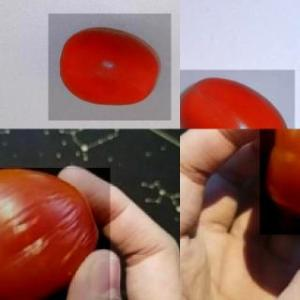tomato: (48, 15, 170, 121), (180, 70, 296, 130), (260, 129, 300, 234)
